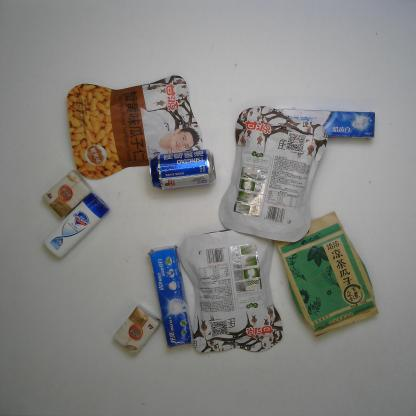Alcohol: (149, 149, 216, 190)
Dried Food: (275, 211, 379, 338)
Dried Fruit: (218, 106, 328, 242), (66, 75, 204, 180), (179, 229, 285, 353)
Personal Hygiene: (148, 244, 193, 349), (43, 192, 110, 258), (277, 108, 375, 139)
Tissue: (42, 170, 93, 219), (112, 306, 162, 355)
